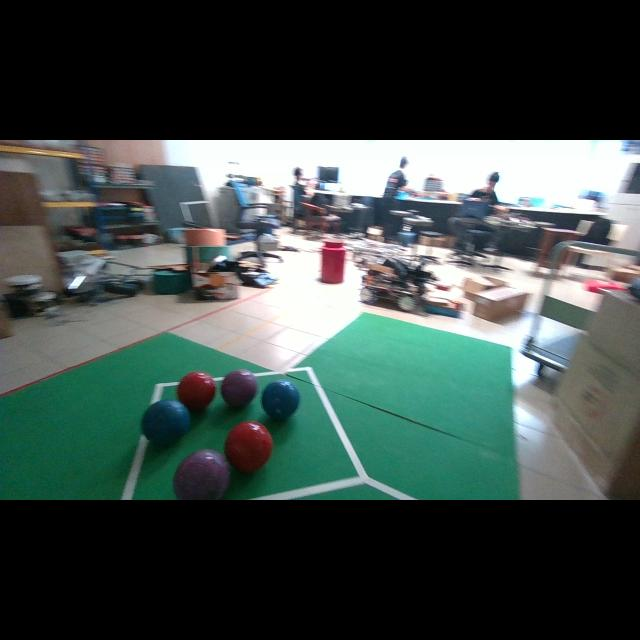B: (141, 400, 190, 445), (261, 380, 300, 419)
P: (174, 450, 230, 500), (221, 369, 258, 407)
R: (225, 421, 272, 472), (178, 371, 215, 411)
